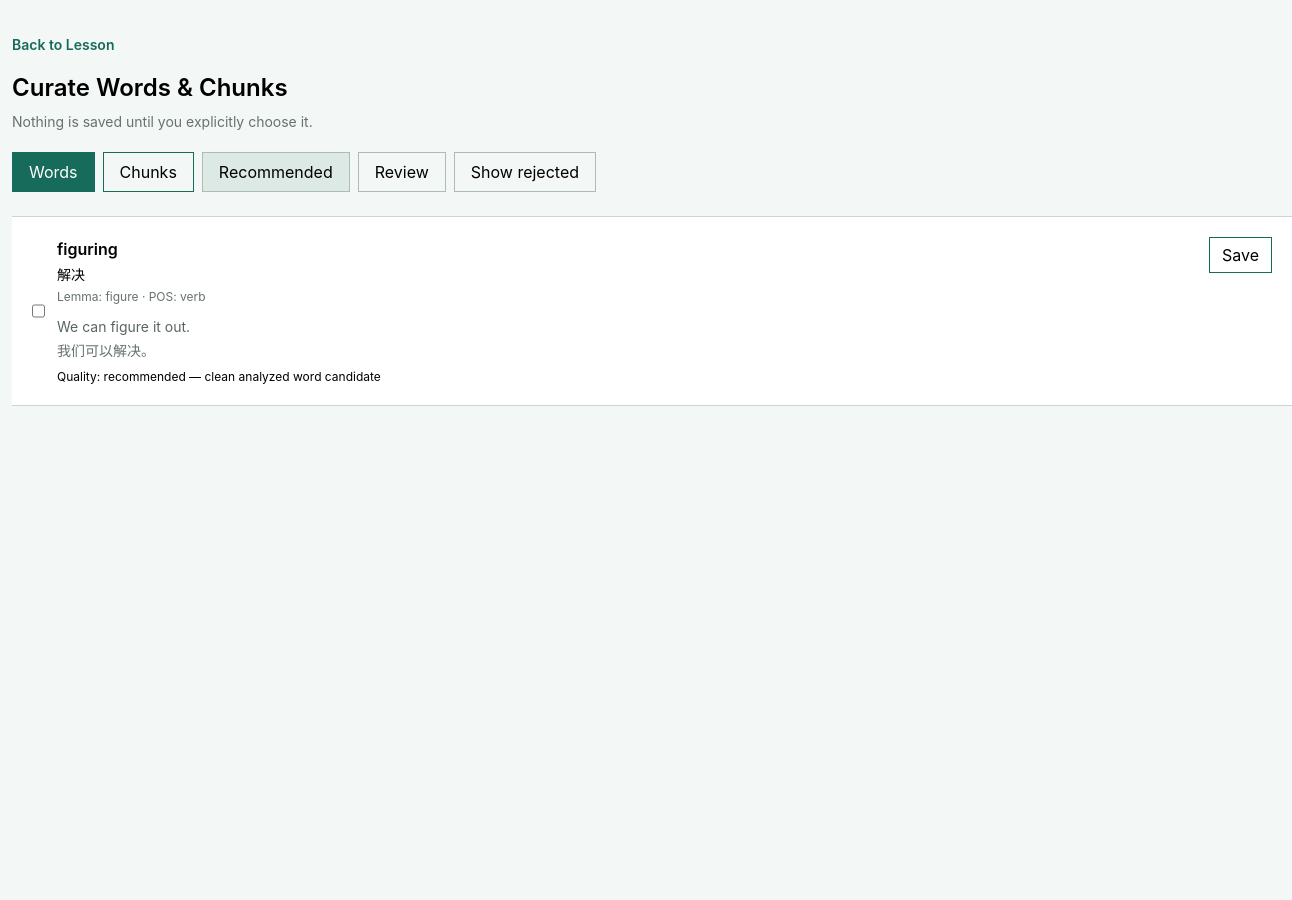
Test: Study curation › supports chunk recommended, review, and transparent rejected filters
Expected: the text "figuring" is shown, [57,239,118,259]
Click the button "Chunks" at [148, 172], box [102,152,194,192]
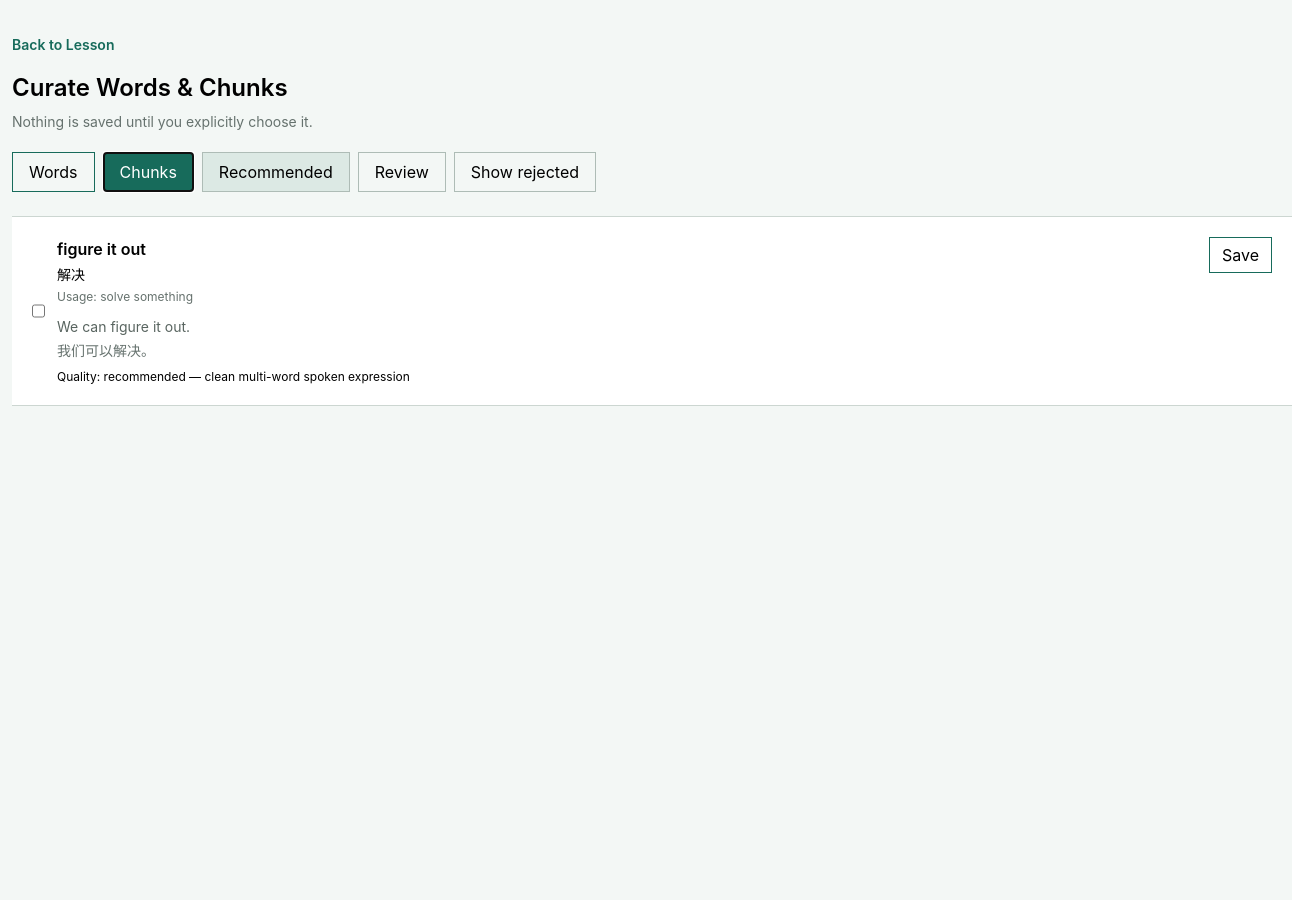
Expected: the text "To go?" is not shown
Result: the text "figure it out" is shown at [57,239,146,259]
Click the button "Review" at [402, 172], box [358,152,446,192]
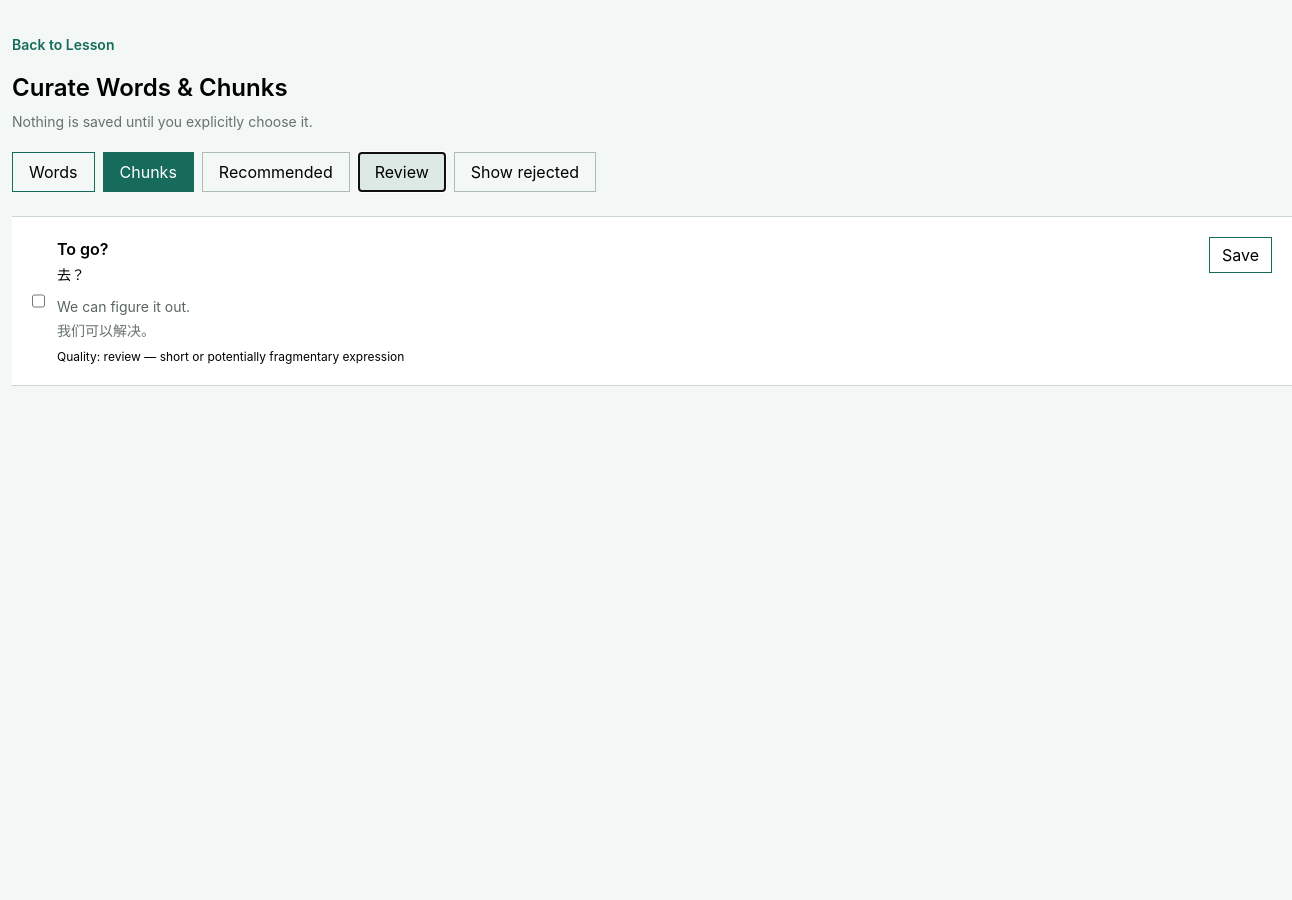
Result: the text "To go?" is shown at [57,239,108,259]
Click the button "Show rejected" at [525, 172], box [454,152,596,192]
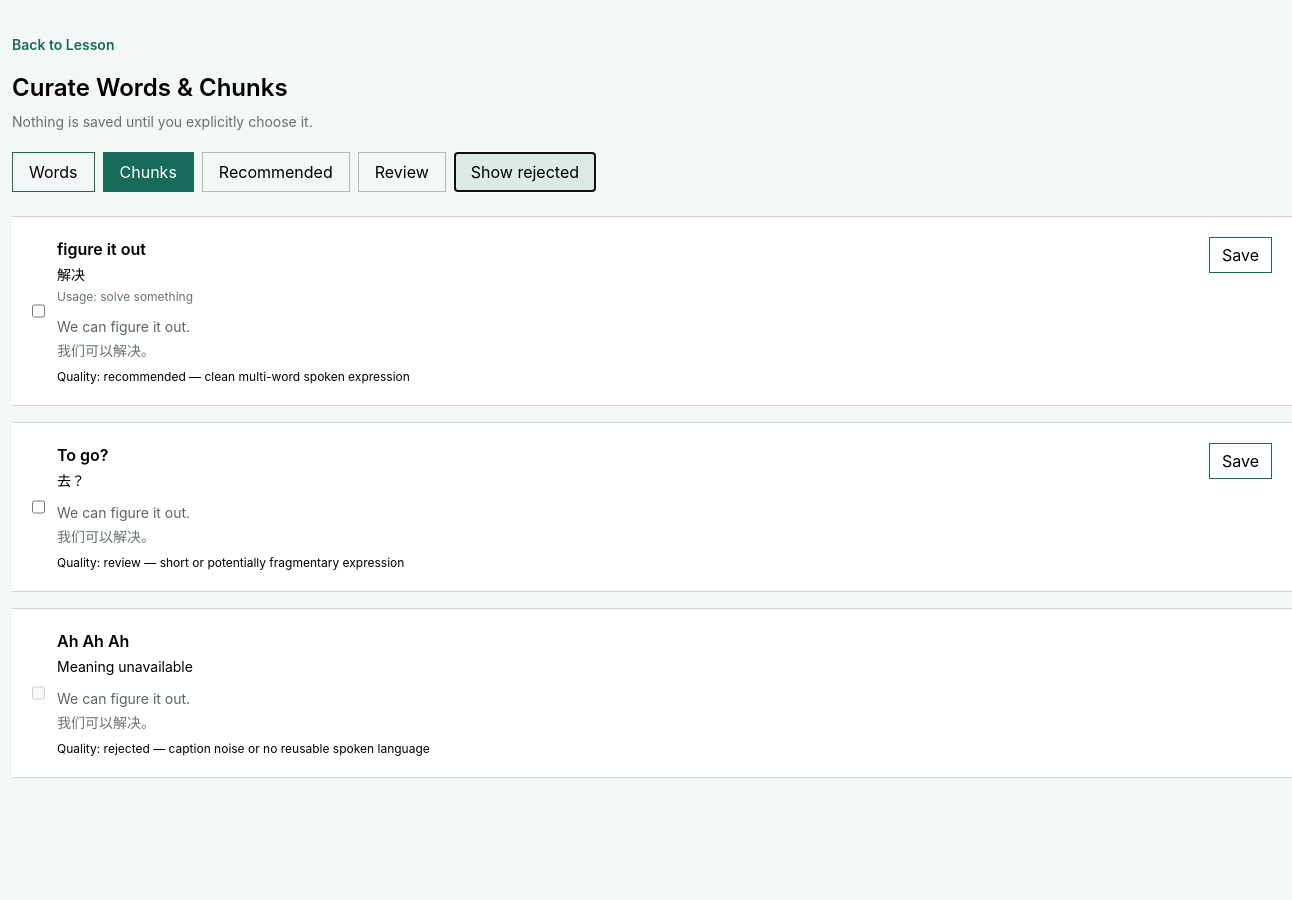
Result: the text "Ah Ah Ah" is shown at [57,631,129,651]
Result: the checkbox named "Select Ah Ah Ah" is disabled at [32,629,45,757]
